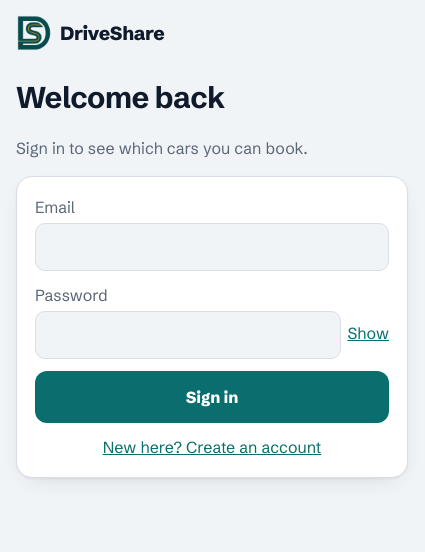
Test: LoginPage › names the problem when the email is malformed
Type "nope" into the field labelled "Email" at (212, 247), box [35,223,389,271]
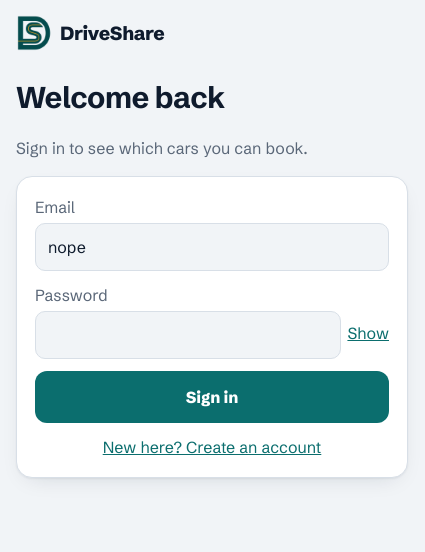
Click the button "Sign in" at (212, 397), box [35,371,389,423]
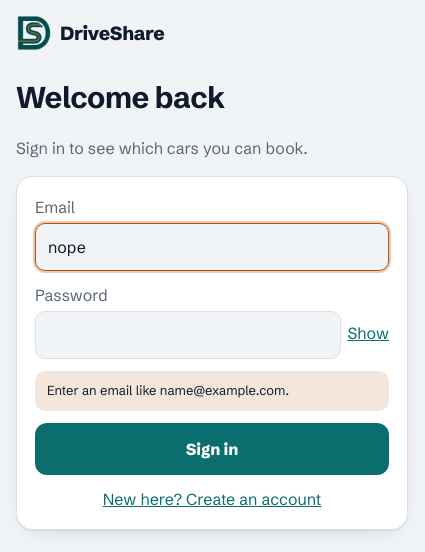
Check: the message shows "name@example.com", box [47,382,289,398]
